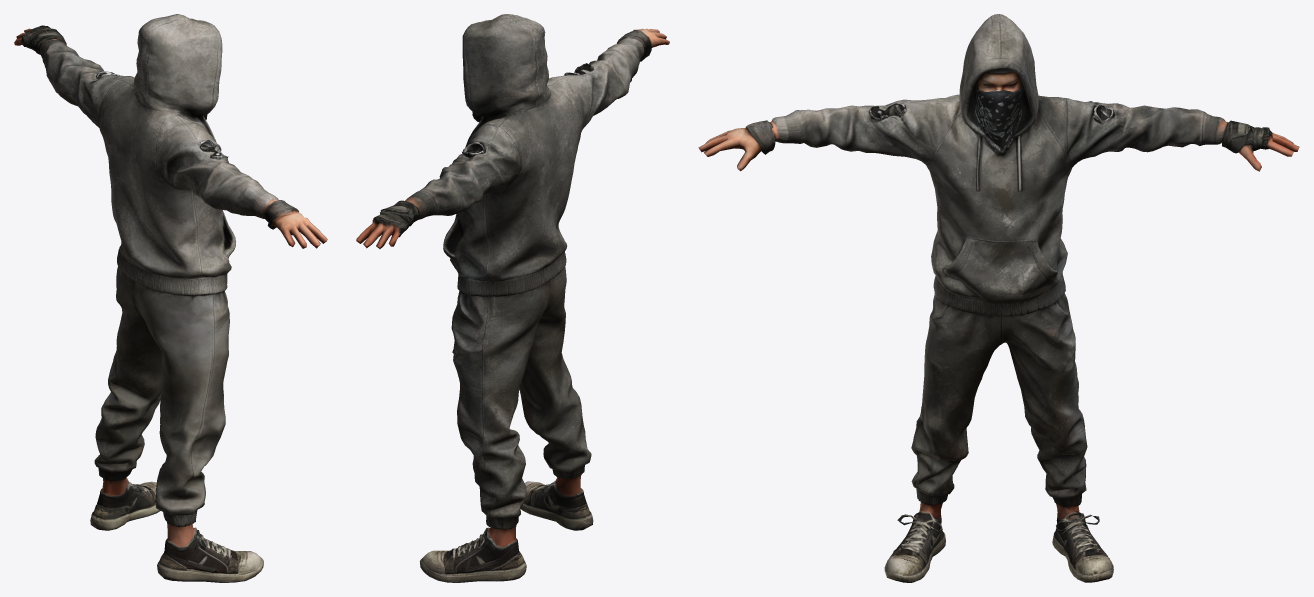
File: h_clan3.glb
The picture shows the model from 3 angles, left to right: view 1: azimuth 30°, elevation 25°; view 2: azimuth 150°, elevation 25°; view 3: azimuth 270°, elevation 25°; orthographic projection. The views are drawn at different scales.
Parts seen in each view (by area): view 1: tripo_node_4391ca29-27e4-4ee5-9853-ffdc61f0e4de; view 2: tripo_node_4391ca29-27e4-4ee5-9853-ffdc61f0e4de; view 3: tripo_node_4391ca29-27e4-4ee5-9853-ffdc61f0e4de.
Part boxes in pixels (<box>): tripo_node_4391ca29-27e4-4ee5-9853-ffdc61f0e4de: <box>14,14,327,582</box>; tripo_node_4391ca29-27e4-4ee5-9853-ffdc61f0e4de: <box>356,14,669,582</box>; tripo_node_4391ca29-27e4-4ee5-9853-ffdc61f0e4de: <box>698,14,1299,582</box>.
Bounding box in the file's own units: 0.1923 × 0.9777 × 0.9802.
Materials: 1 (1 with a texture image).
